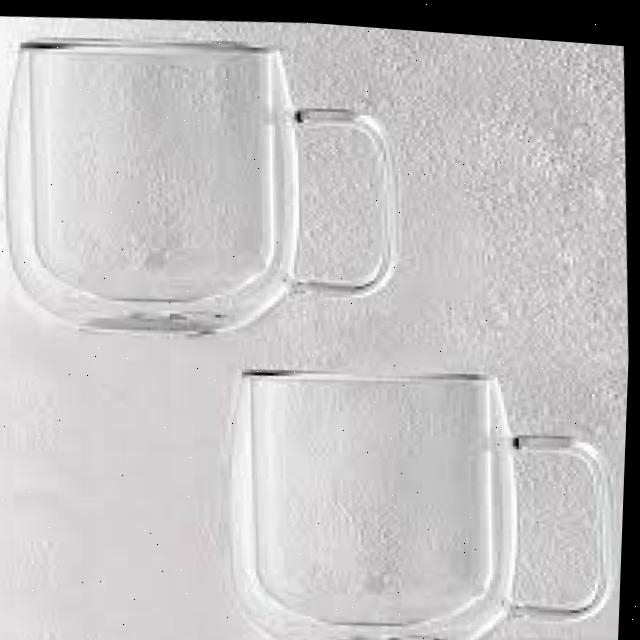Dry: (203, 331, 631, 640)
